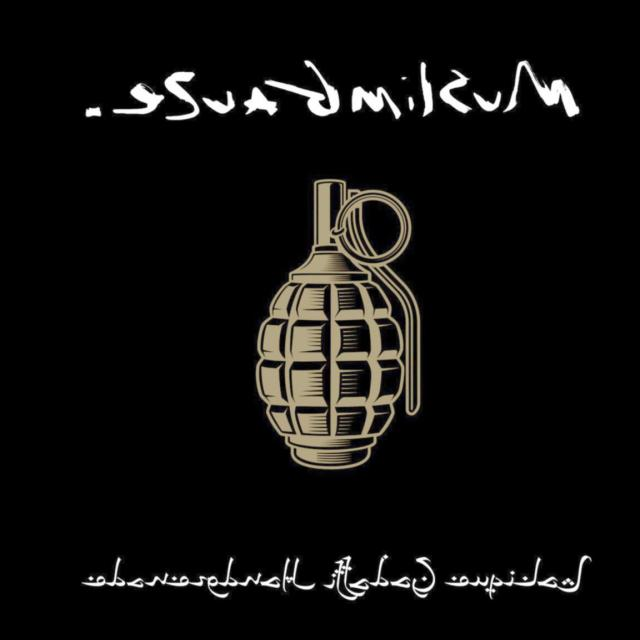grenade: (258, 180, 421, 470)
